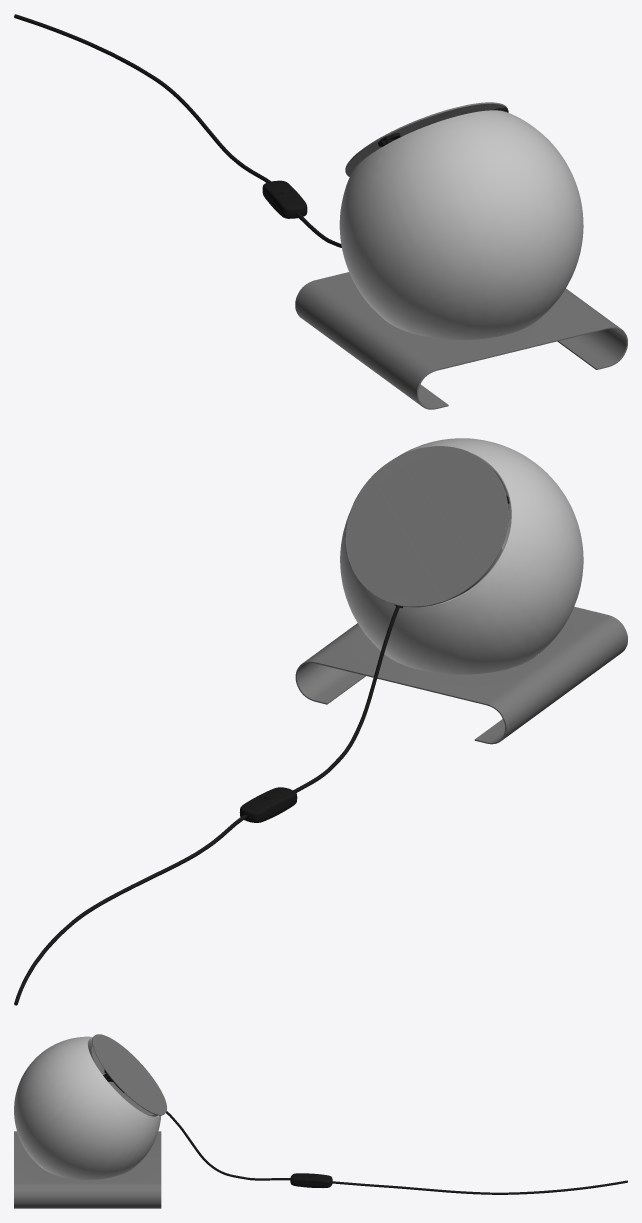
File: designconnected-the-globe-table-lamp-8624.optimized.glb
3 views of the same model, one above another, from view 1: azimuth 30°, elevation 25°; view 2: azimuth 150°, elevation 25°; view 3: azimuth 270°, elevation 25° (orthographic). The views are drawn at different scales.
Visible parts, largest first — view 1: Oluce_The_Globe_mat1; view 2: Oluce_The_Globe_mat1; view 3: Oluce_The_Globe_mat1.
Part boxes in pixels (x1,y1,x2,y2): Oluce_The_Globe_mat1: [14, 14, 627, 409]; Oluce_The_Globe_mat1: [14, 438, 627, 1005]; Oluce_The_Globe_mat1: [14, 1034, 627, 1208].
Size of the model in its own units: 0.2999 by 0.3187 by 1.25.
1 material, 1 textured.
